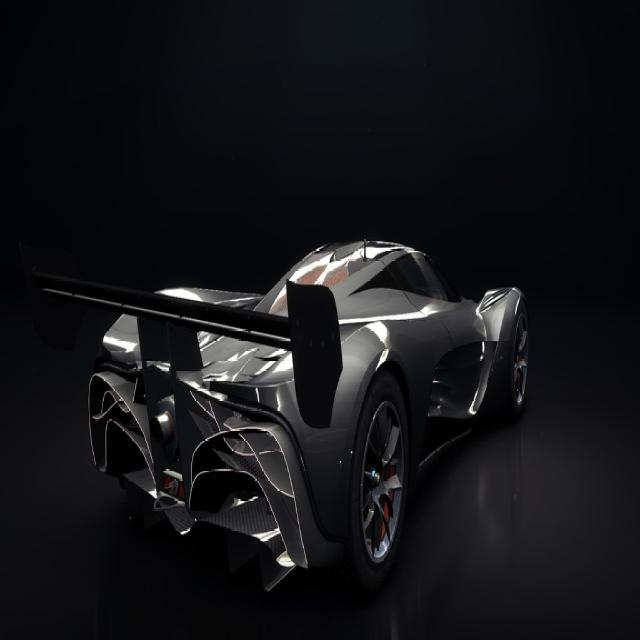car: (58, 214, 524, 586)
